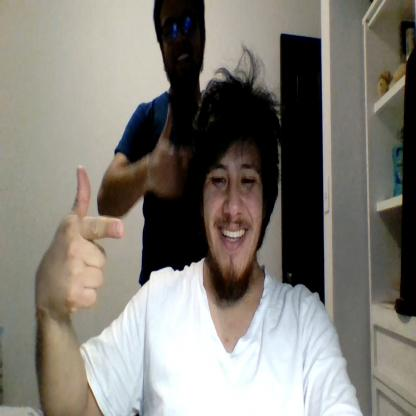G: (44, 166, 124, 313)
